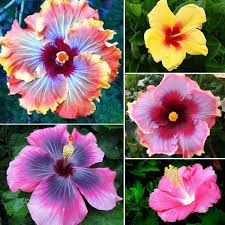hybiscus: (139, 1, 213, 70)
